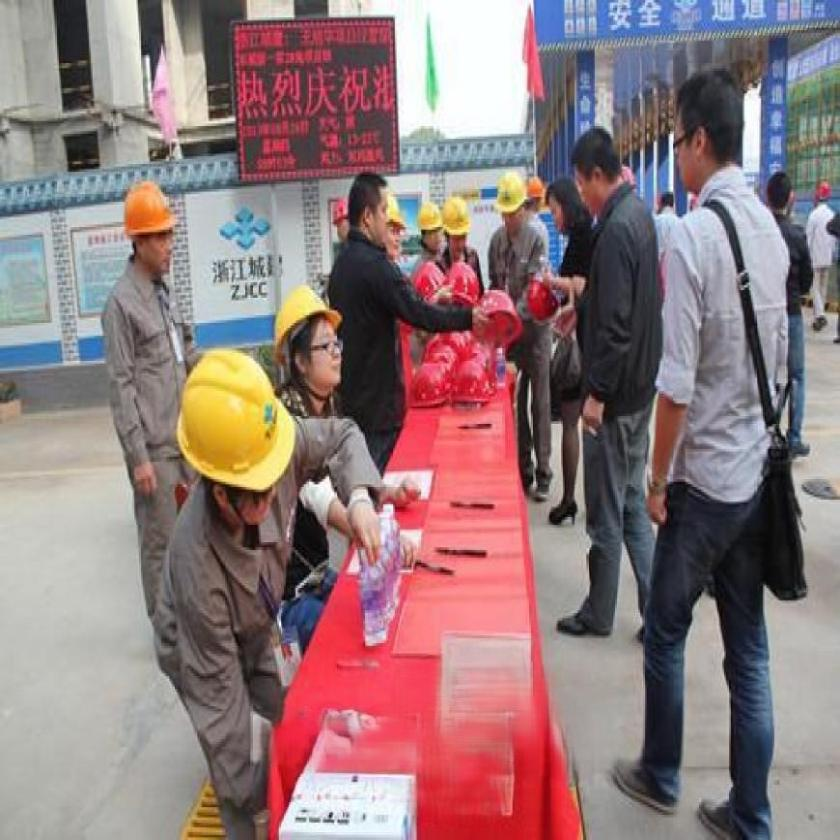Con_casco: (174, 346, 289, 524), (120, 174, 198, 283)
Sin_casco: (680, 53, 757, 206), (558, 125, 618, 217), (349, 171, 389, 246)
